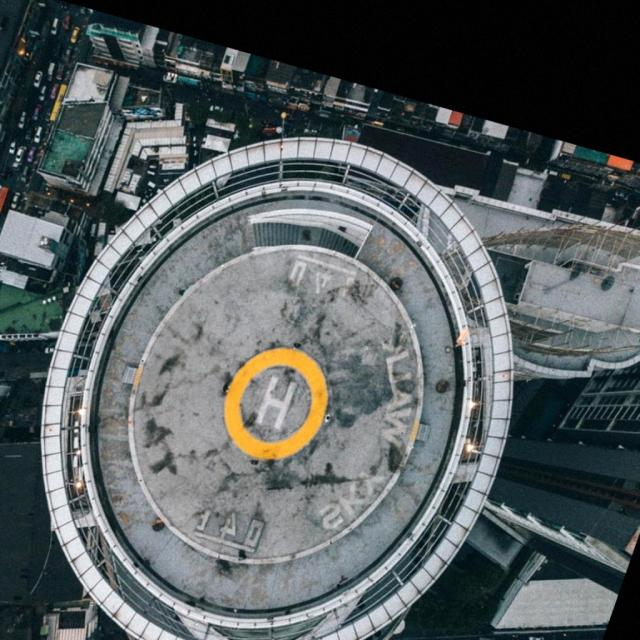helipad: (222, 343, 330, 462)
